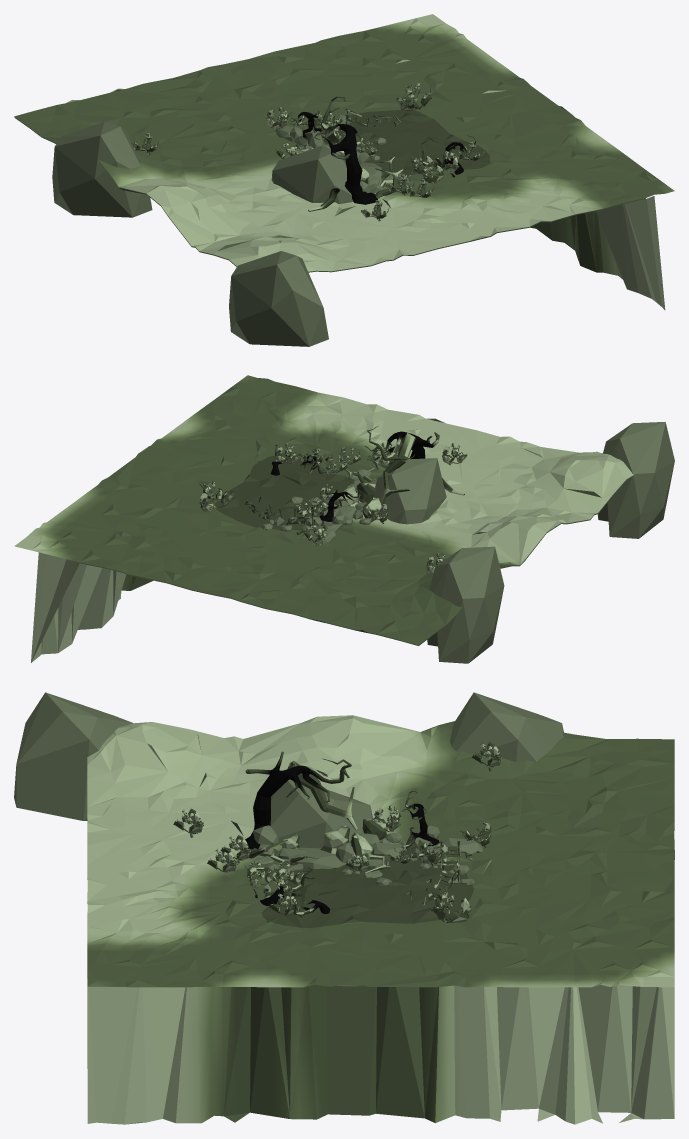
Rendered from Terrain.glb.
The picture shows the model from 3 angles, top to bottom: view 1: azimuth 30°, elevation 25°; view 2: azimuth 150°, elevation 25°; view 3: azimuth 270°, elevation 25°; orthographic projection. The views are drawn at different scales.
Parts seen in each view (by area): view 1: comp; view 2: comp; view 3: comp.
Part boxes in pixels (<box>): comp: <box>14,14,674,346</box>; comp: <box>14,375,674,663</box>; comp: <box>14,692,674,1124</box>.
Size of the model in its own units: 259 by 110 by 282.
Materials: 2 (2 with a texture image).
